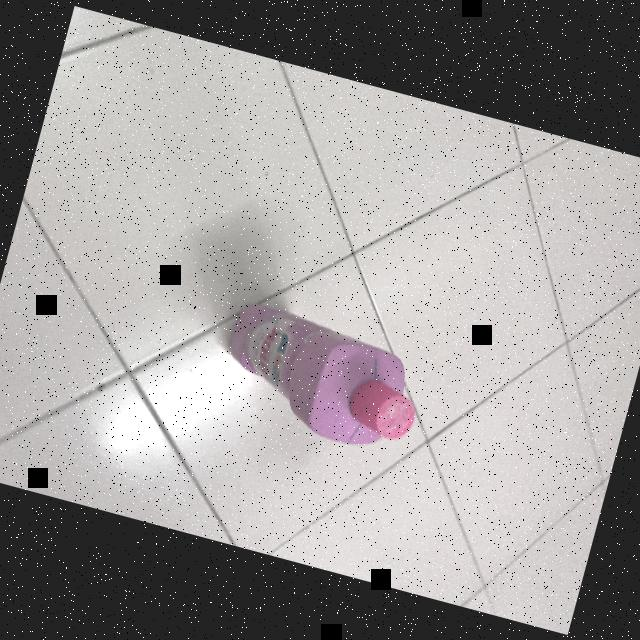chemical_plastic_bottle: (206, 294, 436, 462)
